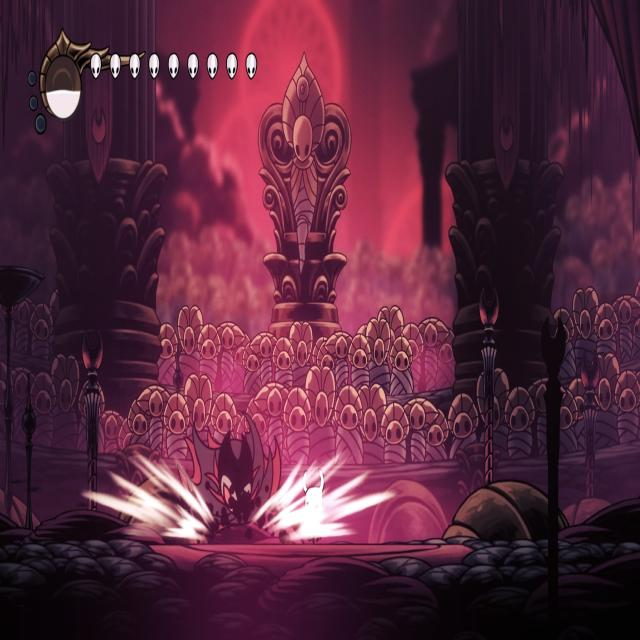Dive Dash: (172, 402, 288, 543)
Player: (300, 465, 325, 544)
